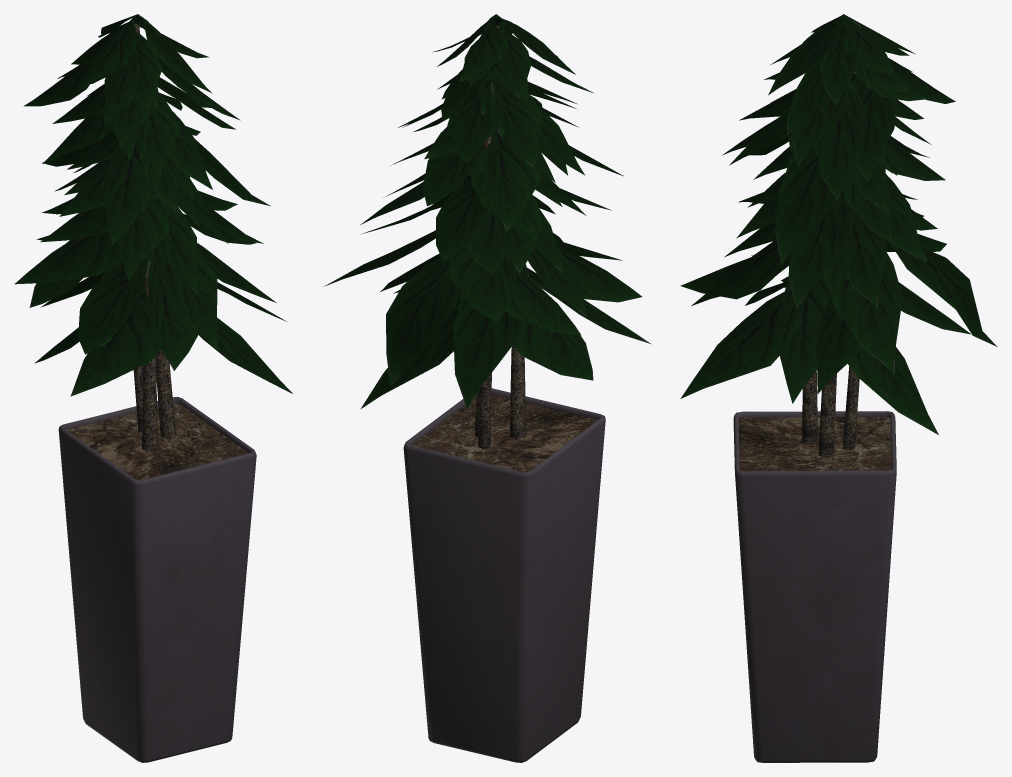
Rendered from frl_apartment_indoor_plant_02.glb.
3 renders of one model, left to right at view 1: azimuth 30°, elevation 25°; view 2: azimuth 150°, elevation 25°; view 3: azimuth 270°, elevation 25°, orthographic. The views are drawn at different scales.
Visible parts, largest first — view 1: frl_apartment_indoor_plant_02; view 2: frl_apartment_indoor_plant_02; view 3: frl_apartment_indoor_plant_02.
Boxes of the visible parts, x1,y1,x2,y2 form: frl_apartment_indoor_plant_02: [14, 14, 292, 762]; frl_apartment_indoor_plant_02: [324, 14, 651, 762]; frl_apartment_indoor_plant_02: [680, 14, 997, 762].
Size of the model in its own units: 0.6698 by 1.79 by 0.7123.
1 material, 1 textured.
